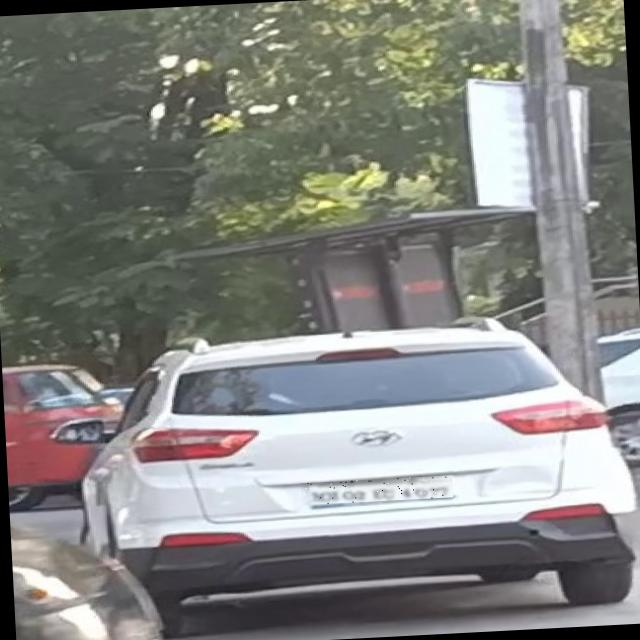Plate: (302, 476, 455, 506)
